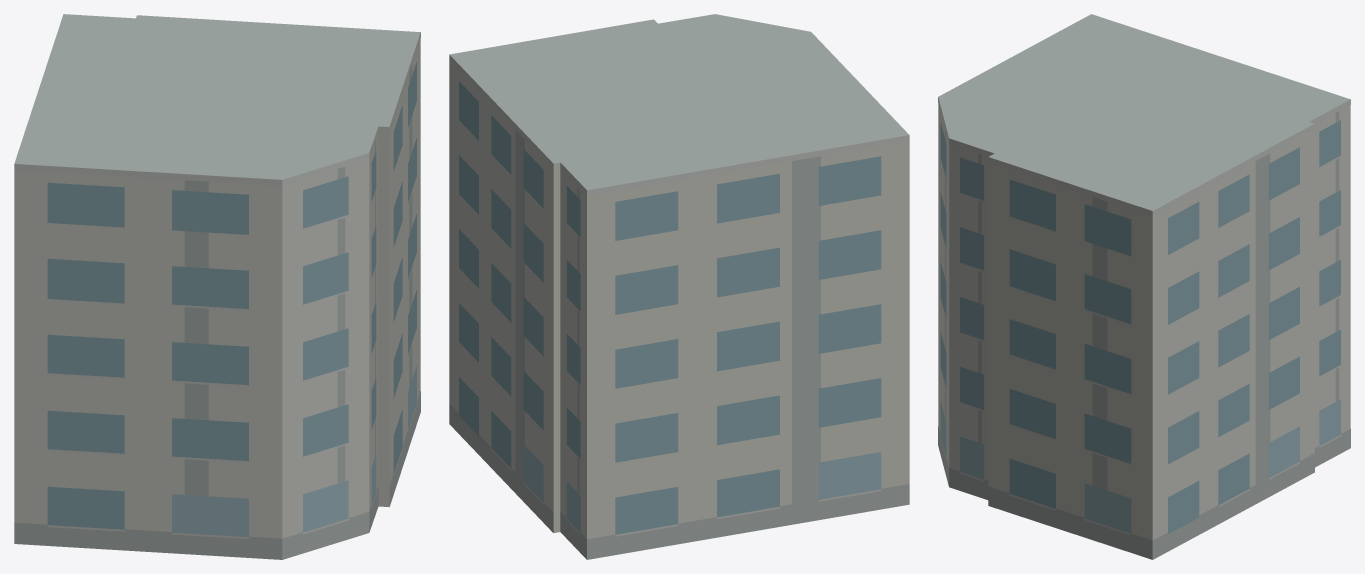
The model's file is survey-upis-32864889.glb.
3 views of the same model, side by side, from view 1: azimuth 30°, elevation 25°; view 2: azimuth 150°, elevation 25°; view 3: azimuth 270°, elevation 25° (orthographic). The views are drawn at different scales.
Parts seen in each view (by area): view 1: survey-upis-32864889.tmp; view 2: survey-upis-32864889.tmp; view 3: survey-upis-32864889.tmp.
Boxes of the visible parts, bbox=[...] form: survey-upis-32864889.tmp: bbox=[14, 14, 420, 559]; survey-upis-32864889.tmp: bbox=[449, 14, 909, 559]; survey-upis-32864889.tmp: bbox=[938, 14, 1350, 559].
Size of the model in its own units: 18.06 by 14.9 by 15.98.
